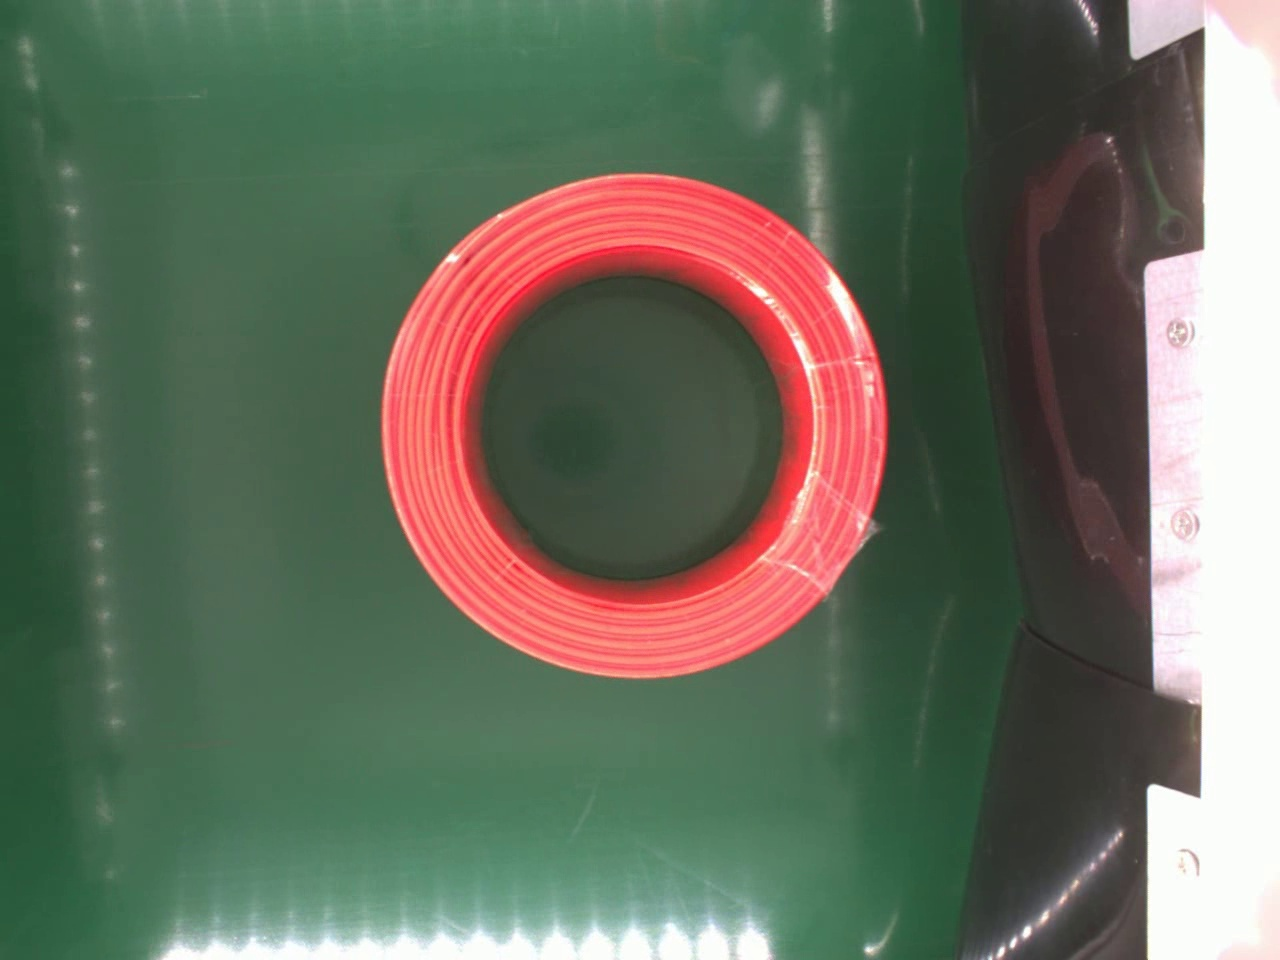red: (377, 168, 892, 682)
